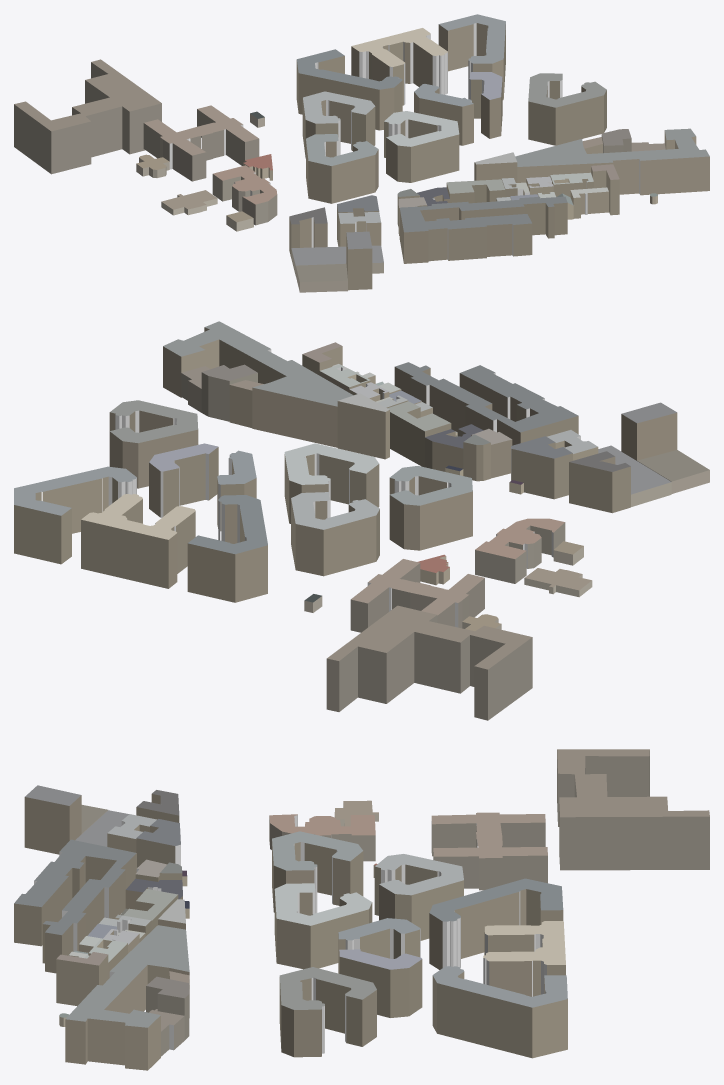
The picture shows the model from 3 angles, top to bottom: view 1: azimuth 30°, elevation 25°; view 2: azimuth 150°, elevation 25°; view 3: azimuth 270°, elevation 25°; orthographic projection. The views are drawn at different scales.
Visible parts, largest first — view 1: tuile; view 2: tuile; view 3: tuile.
Boxes of the visible parts, x1,y1,x2,y2 form: tuile: (14,14,709,292); tuile: (14,321,709,720); tuile: (14,749,709,1070).
Bounding box in the file's own units: 298 × 33.99 × 305.
